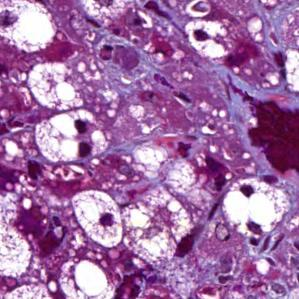ballooning: (220, 176, 291, 240), (33, 108, 110, 166), (68, 188, 128, 250), (4, 3, 60, 55)
